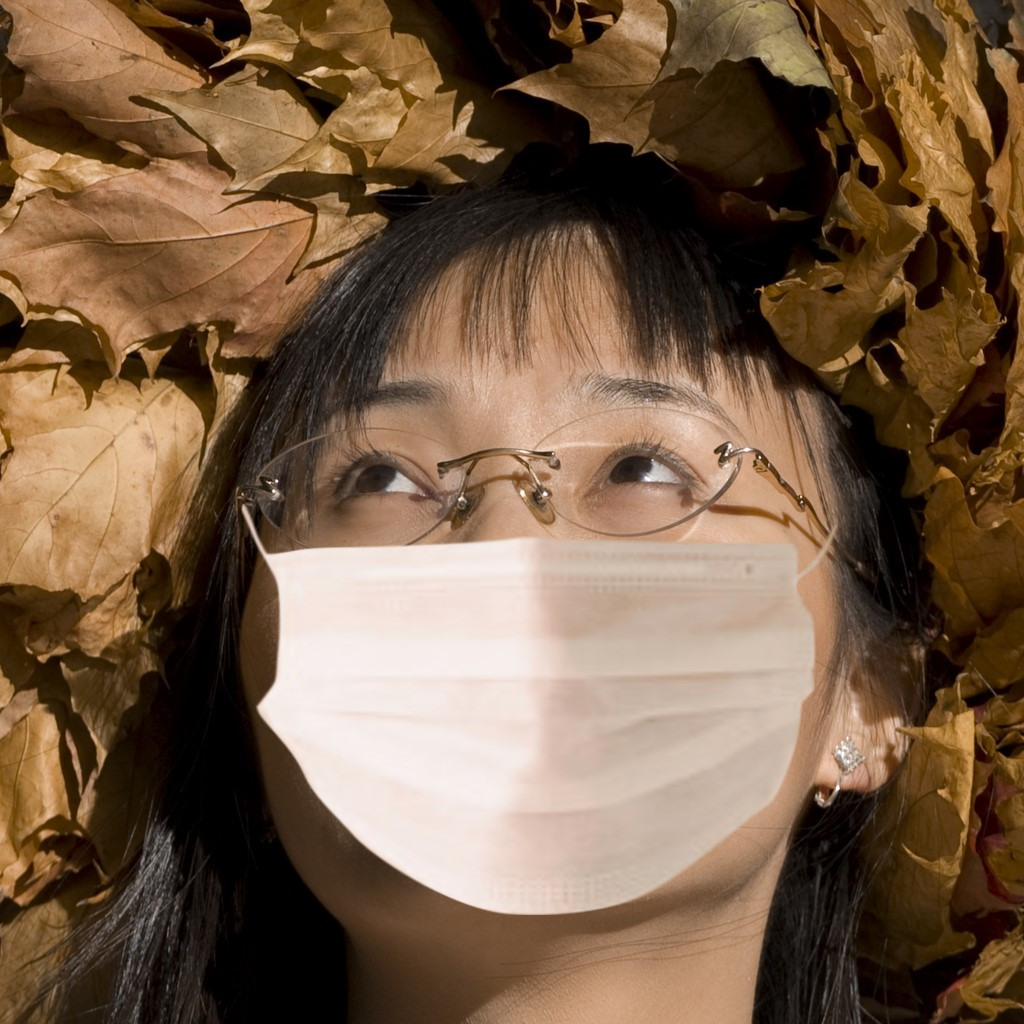con_mascara: (233, 142, 868, 967)
